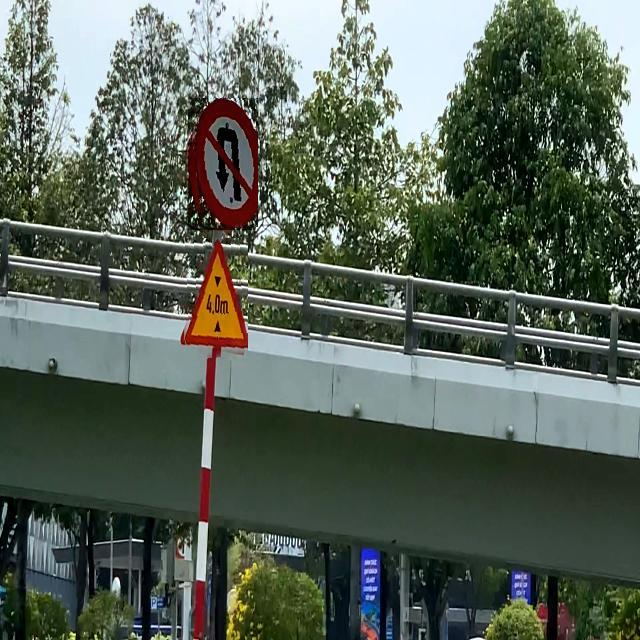P-124a: (188, 98, 258, 230)
S-509a: (180, 238, 248, 361)
